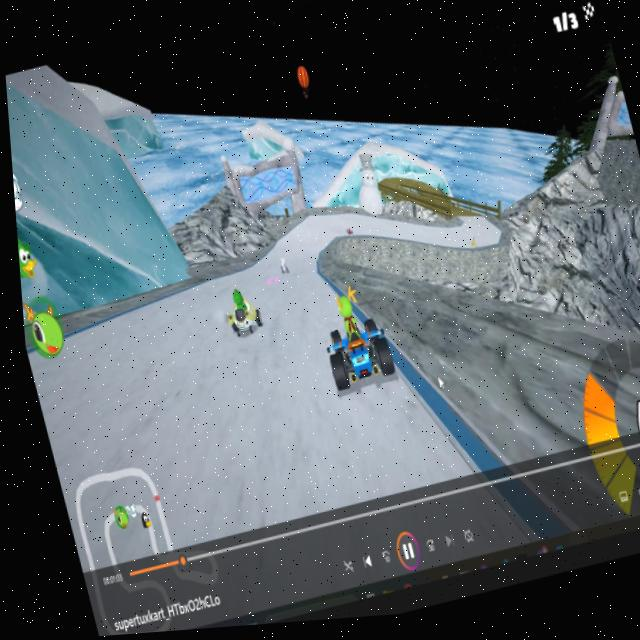enemy_kart: (214, 291, 260, 347), (273, 262, 287, 281), (339, 227, 351, 242)
obstacle: (461, 240, 475, 256)
player_kart: (304, 288, 390, 401)
track: (364, 213, 427, 248), (280, 217, 331, 253), (455, 215, 483, 233)
